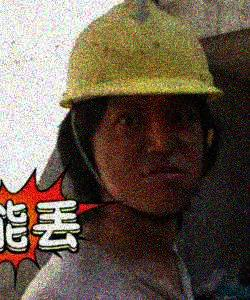helmet: (59, 1, 227, 216)
